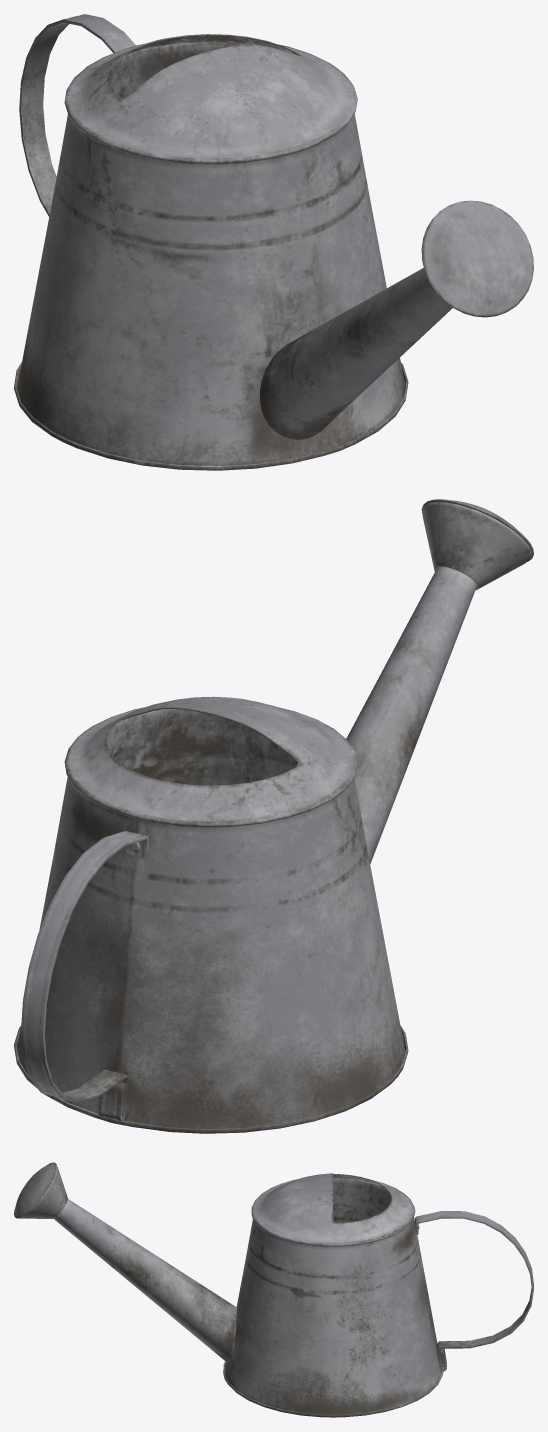
The picture shows the model from 3 angles, top to bottom: view 1: azimuth 30°, elevation 25°; view 2: azimuth 150°, elevation 25°; view 3: azimuth 270°, elevation 25°; orthographic projection. The views are drawn at different scales.
Visible parts, largest first — view 1: watering_can_metal_01; view 2: watering_can_metal_01; view 3: watering_can_metal_01.
Part boxes in pixels (x1,y1,x2,y2): watering_can_metal_01: (14, 14, 533, 470); watering_can_metal_01: (14, 499, 533, 1133); watering_can_metal_01: (14, 1162, 533, 1417).
Size of the model in its own units: 0.191 by 0.1968 by 0.4523.
1 material, 1 textured.
